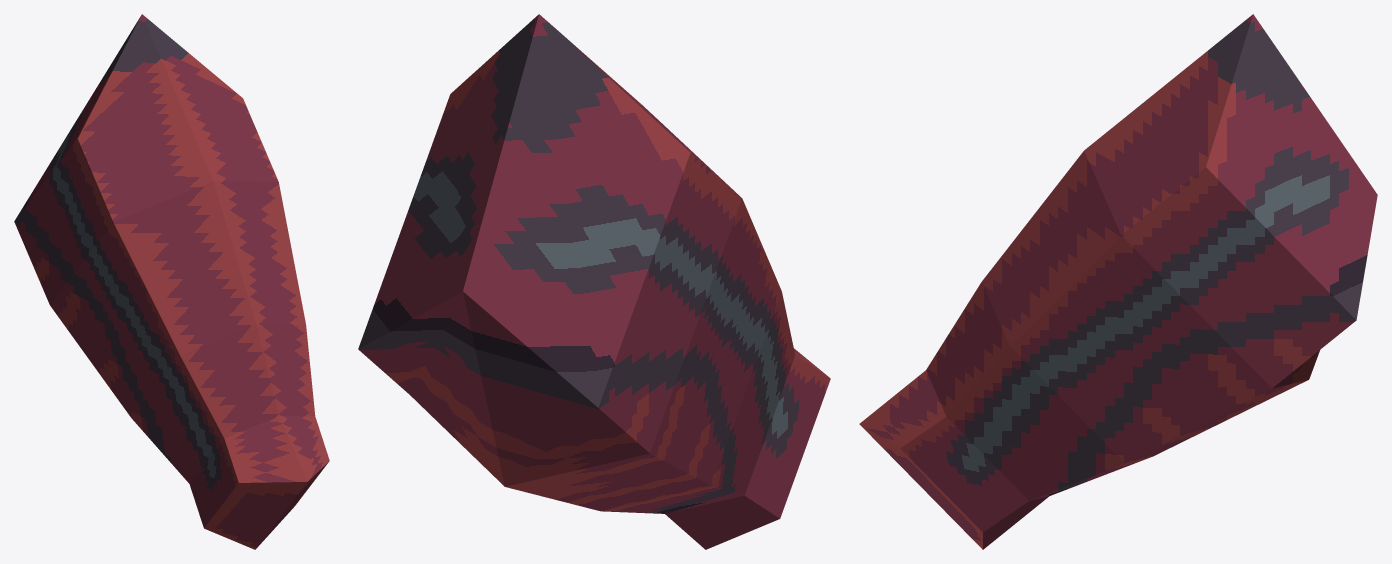
The model's file is mantis_body.glb.
3 views of the same model, side by side, from view 1: azimuth 30°, elevation 25°; view 2: azimuth 150°, elevation 25°; view 3: azimuth 270°, elevation 25° (orthographic). The views are drawn at different scales.
Visible parts, largest first — view 1: Cube.144; view 2: Cube.144; view 3: Cube.144.
Part boxes in pixels (bbox=[...]): Cube.144: bbox=[14, 14, 329, 549]; Cube.144: bbox=[358, 14, 830, 549]; Cube.144: bbox=[859, 14, 1377, 549].
Size of the model in its own units: 2 by 5.23 by 4.58.
1 material, 1 textured.
